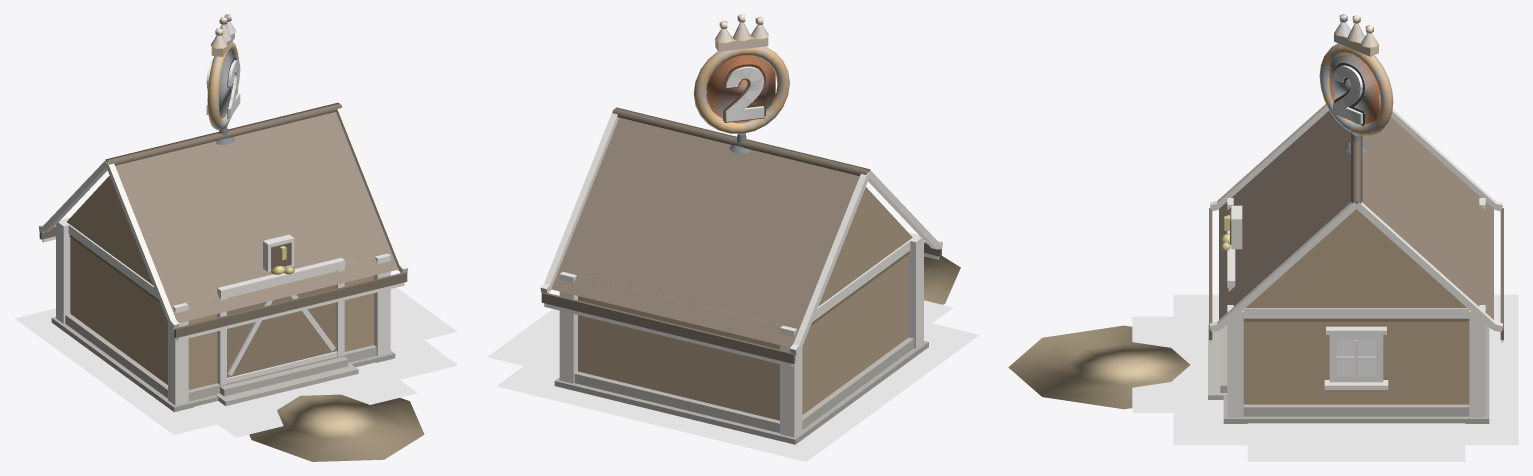
File: barn_2.glb
3 renders of one model, left to right at view 1: azimuth 30°, elevation 25°; view 2: azimuth 150°, elevation 25°; view 3: azimuth 270°, elevation 25°, orthographic. The views are drawn at different scales.
Visible parts, largest first — view 1: body2, barn_2, spin_60_0, body; view 2: body2, barn_2, spin_60_0, body; view 3: body2, barn_2, body, spin_60_0.
Boxes of the visible parts, x1=… form: body2: x1=38, y1=102, x2=424, y2=461; barn_2: x1=15, y1=287, x2=457, y2=437; spin_60_0: x1=206, y1=14, x2=240, y2=129; body: x1=206, y1=14, x2=240, y2=130; body2: x1=540, y1=107, x2=960, y2=444; barn_2: x1=487, y1=300, x2=979, y2=461; spin_60_0: x1=693, y1=14, x2=789, y2=133; body: x1=696, y1=16, x2=789, y2=133; body2: x1=1008, y1=97, x2=1503, y2=423; barn_2: x1=1132, y1=294, x2=1518, y2=461; body: x1=1319, y1=14, x2=1391, y2=135; spin_60_0: x1=1320, y1=14, x2=1393, y2=136.
Bounding box in the file's own units: 2.89 × 2.85 × 3.71.
